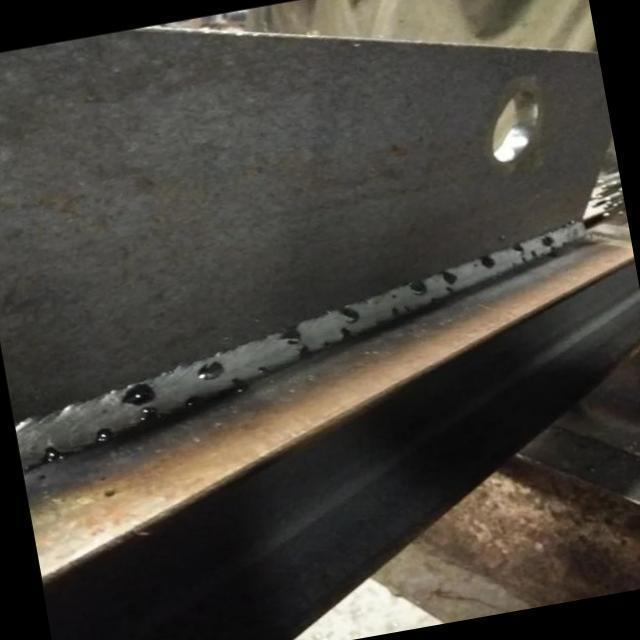defect: (116, 381, 163, 427), (271, 322, 305, 349), (194, 360, 230, 383), (510, 241, 539, 267), (88, 424, 116, 445), (469, 252, 499, 270), (438, 269, 459, 294), (338, 304, 363, 324), (406, 280, 431, 295), (231, 377, 251, 395), (336, 326, 353, 343), (539, 234, 556, 251), (184, 395, 201, 411), (390, 304, 413, 315), (296, 343, 312, 358), (256, 364, 271, 374), (323, 338, 332, 348), (388, 292, 398, 301)
